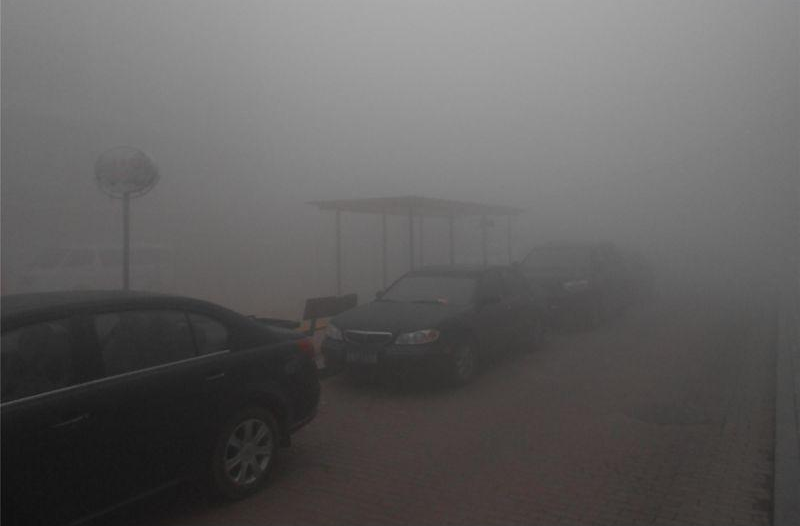car: (1, 284, 324, 517), (314, 256, 545, 394), (504, 236, 631, 333)
